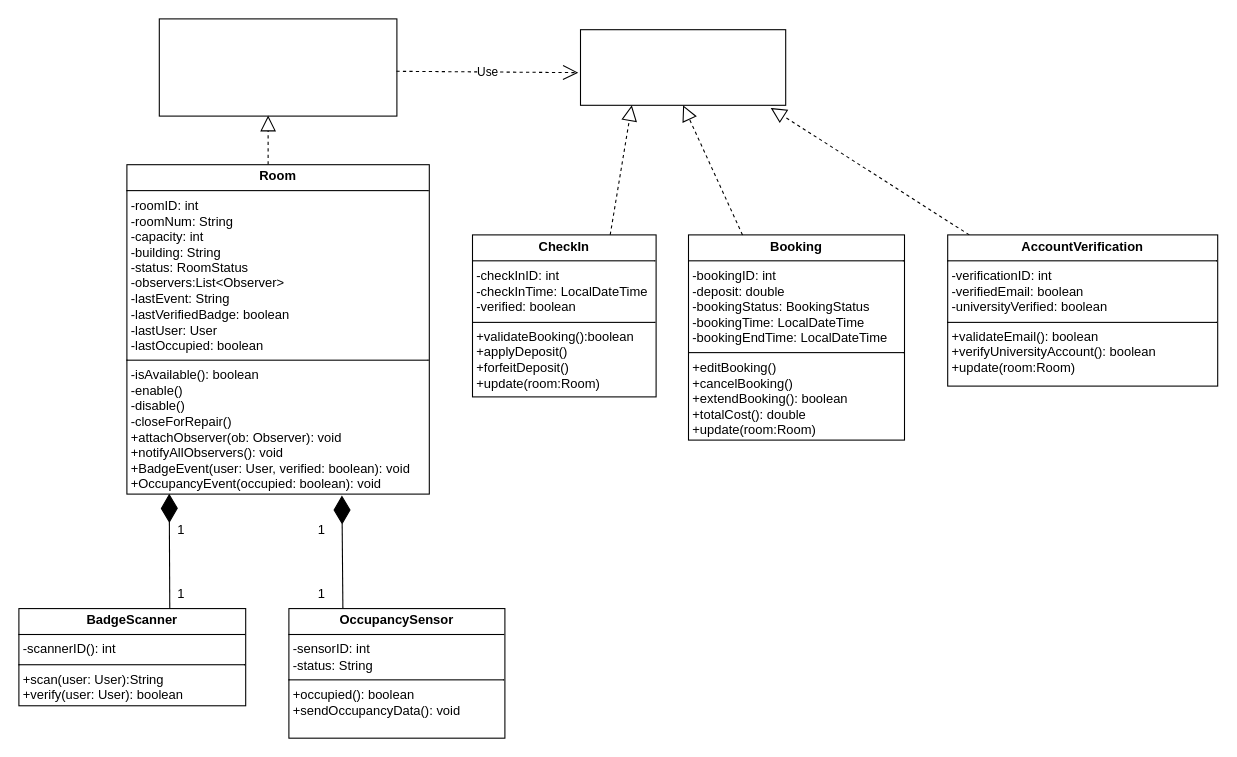
This 1237x757 diagram has some shape labels left out. The box of each missing label's shape, as (x1, y1, x2, y2) in pixels:
<<Interface>> Observer +update(room:Room): (579, 29, 786, 105)
<<Interface>> Subject +attachObserver(ob: Observer) +notifyAllObservers(): (158, 18, 397, 116)
